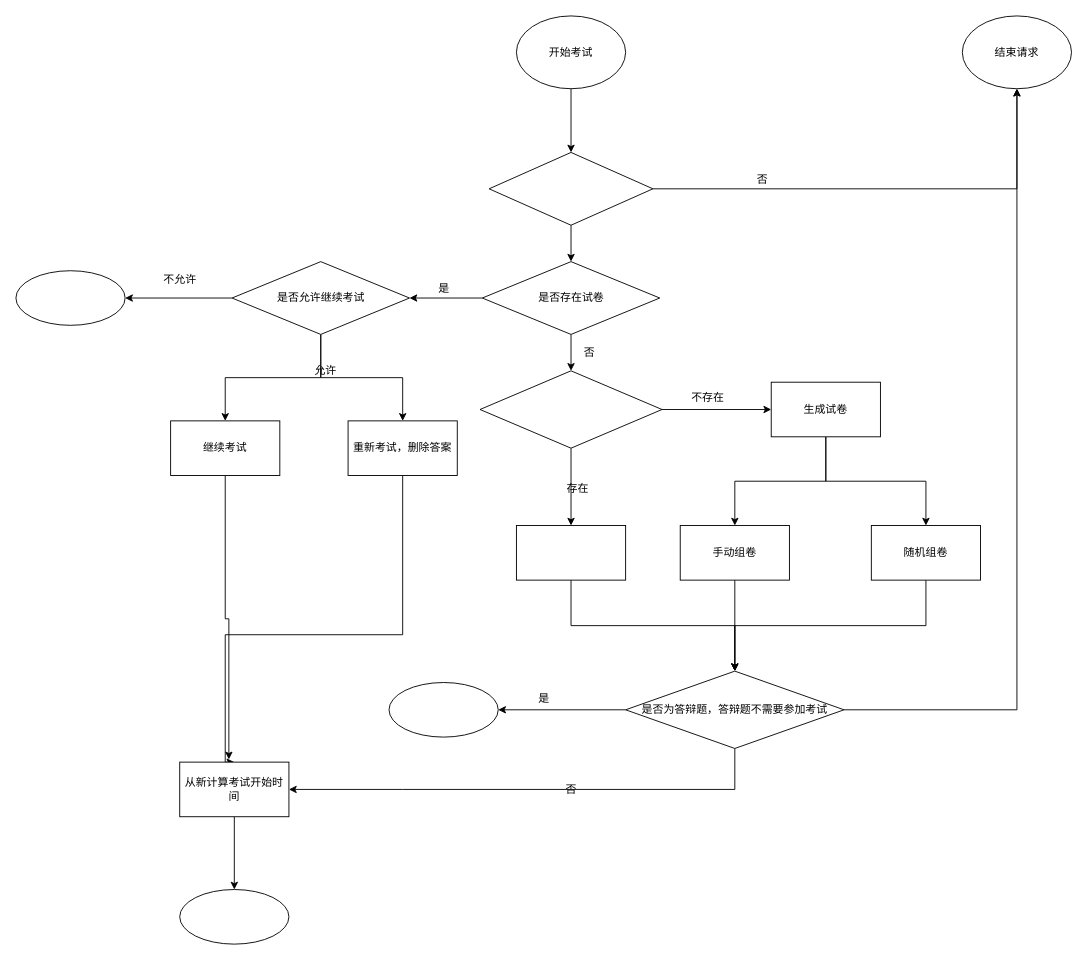
Image size: 1087x960. Some labels were removed from this diagram. The shapes that lost their labels are listed below. From the top down, each one's centre as x and y in pixels, then its label:
At pixel 570 188: "权限、时间、限流校验".
At pixel 70 297: "提交试卷".
At pixel 570 409: "是否存在未分配试卷".
At pixel 571 552: "分配试卷".
At pixel 443 709: "结束考试".
At pixel 234 916: "返回结果".
